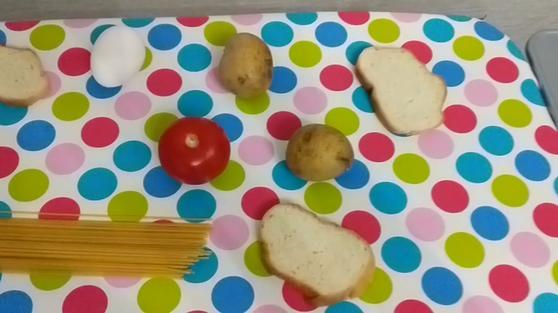egg: (84, 23, 148, 90)
potato: (282, 113, 358, 188), (217, 30, 277, 101)
spaghetti: (1, 209, 221, 282)
tomato: (153, 115, 233, 185)
white_bread: (251, 197, 386, 304), (349, 42, 460, 142), (1, 35, 56, 112)
